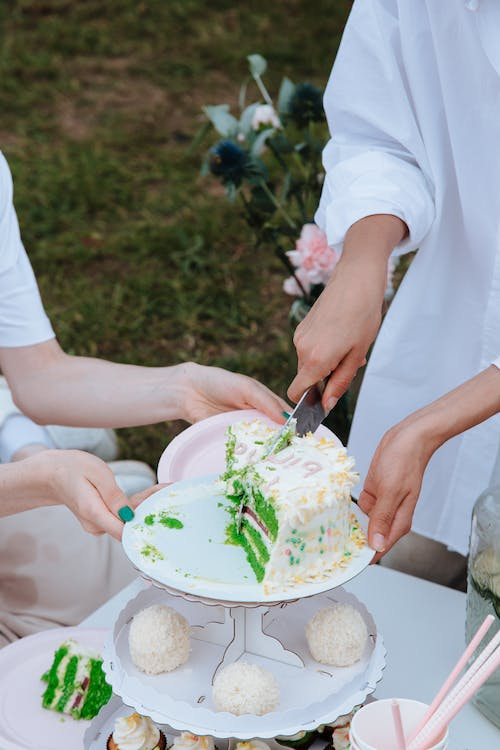knife: (267, 376, 331, 458)
